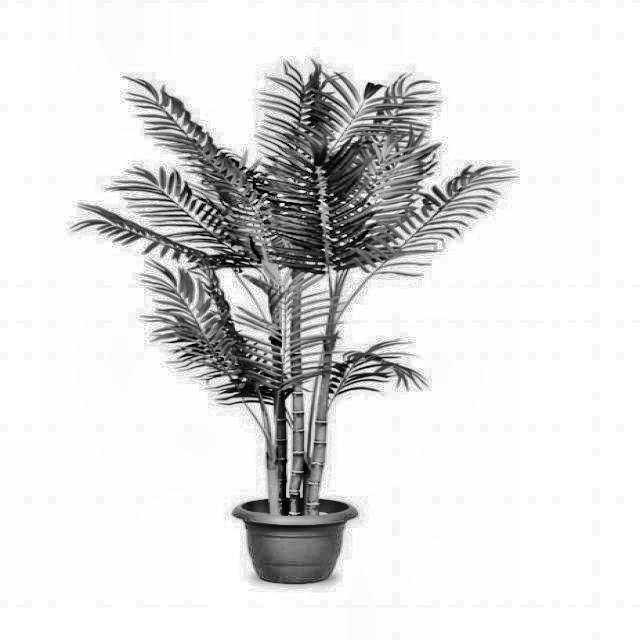plants: (78, 56, 550, 592)
